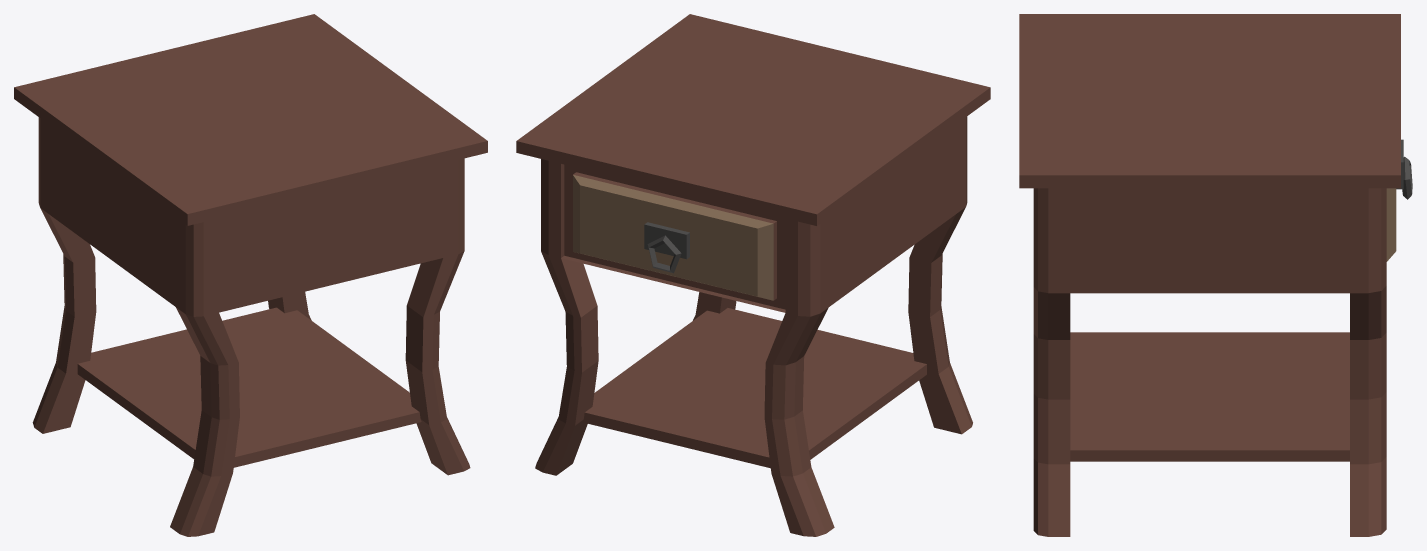
Rendered from side_table.fbx.
3 views of the same model, side by side, from view 1: azimuth 30°, elevation 25°; view 2: azimuth 150°, elevation 25°; view 3: azimuth 270°, elevation 25° (orthographic). The views are drawn at different scales.
Visible parts, largest first — view 1: side_table; view 2: side_table; view 3: side_table.
Boxes of the visible parts, x1,y1,x2,y2 form: side_table: [14, 14, 487, 536]; side_table: [516, 14, 990, 536]; side_table: [1019, 14, 1412, 536].
Size of the model in its own units: 101 by 106 by 104.
